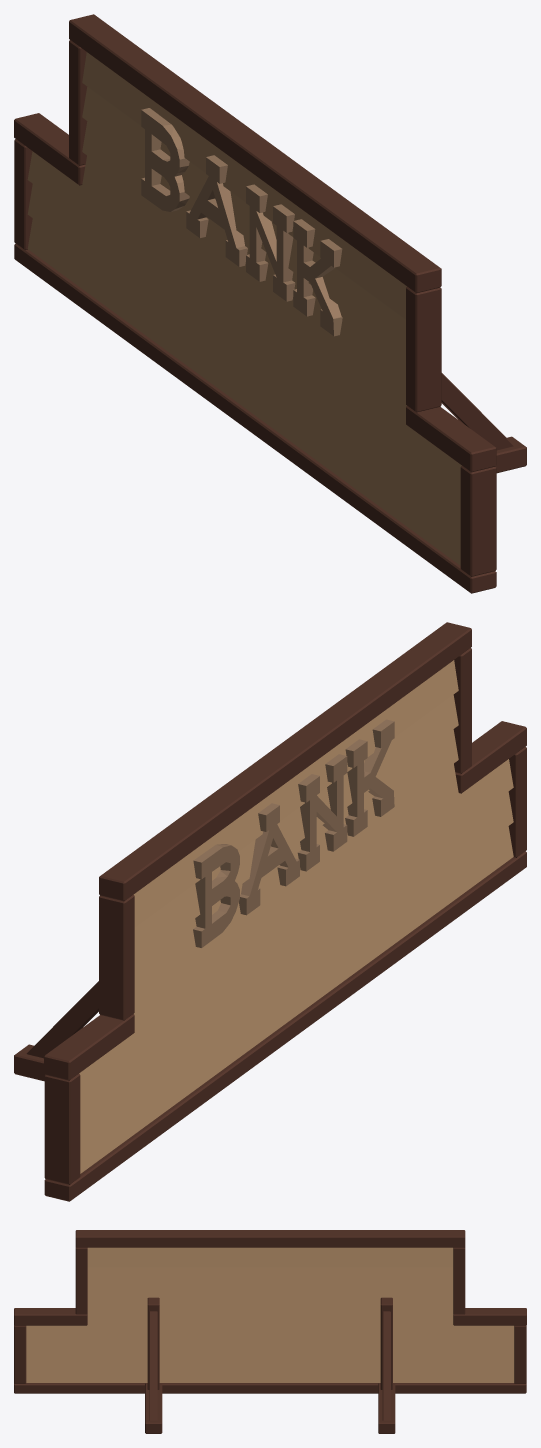
The model's file is bank-sign-c.glb.
3 renders of one model, top to bottom at view 1: azimuth 30°, elevation 25°; view 2: azimuth 150°, elevation 25°; view 3: azimuth 270°, elevation 25°, orthographic. The views are drawn at different scales.
Visible parts, largest first — view 1: Bank Sign C (×3); view 2: Bank Sign C (×3); view 3: Bank Sign C (×2).
Boxes of the visible parts, x1=… form: Bank Sign C (×3): x1=14, y1=14, x2=526, y2=593; Bank Sign C (×3): x1=14, y1=622, x2=526, y2=1201; Bank Sign C (×2): x1=14, y1=1230, x2=526, y2=1433.
Bounding box in the file's own units: 1.46 × 2.23 × 6.6.
